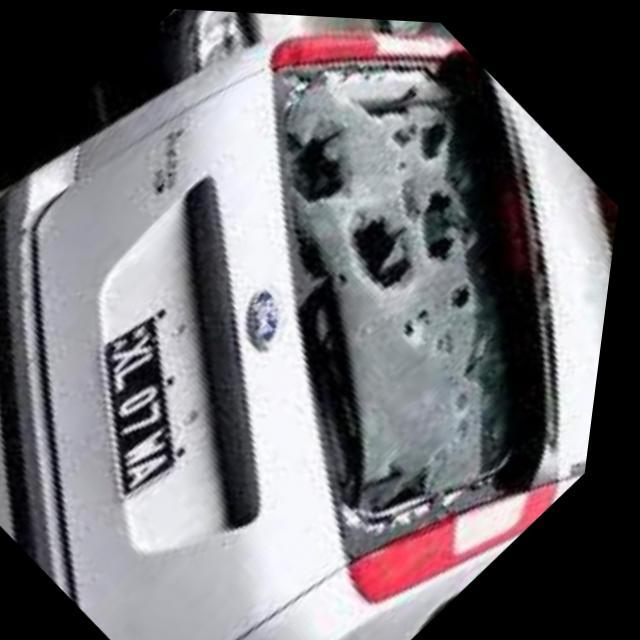glass shatter: (279, 62, 555, 541)
